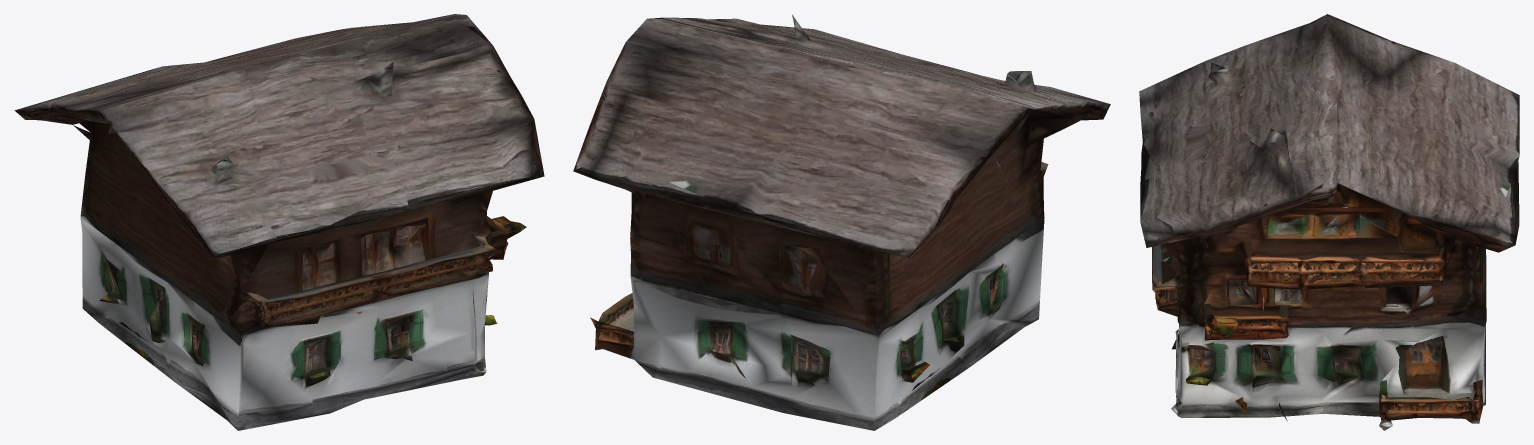
File: haus_chalet.glb
3 renders of one model, left to right at view 1: azimuth 30°, elevation 25°; view 2: azimuth 150°, elevation 25°; view 3: azimuth 270°, elevation 25°, orthographic. The views are drawn at different scales.
Parts seen in each view (by area): view 1: tripo_node_24dfe961-d519-474f-9916-8b9a0090b4a5; view 2: tripo_node_24dfe961-d519-474f-9916-8b9a0090b4a5; view 3: tripo_node_24dfe961-d519-474f-9916-8b9a0090b4a5.
Boxes of the visible parts, x1,y1,x2,y2 form: tripo_node_24dfe961-d519-474f-9916-8b9a0090b4a5: (14, 14, 544, 430); tripo_node_24dfe961-d519-474f-9916-8b9a0090b4a5: (573, 14, 1110, 430); tripo_node_24dfe961-d519-474f-9916-8b9a0090b4a5: (1139, 14, 1519, 430).
Bounding box in the file's own units: 0.9896 × 0.7214 × 0.9224.
Materials: 1 (1 with a texture image).
